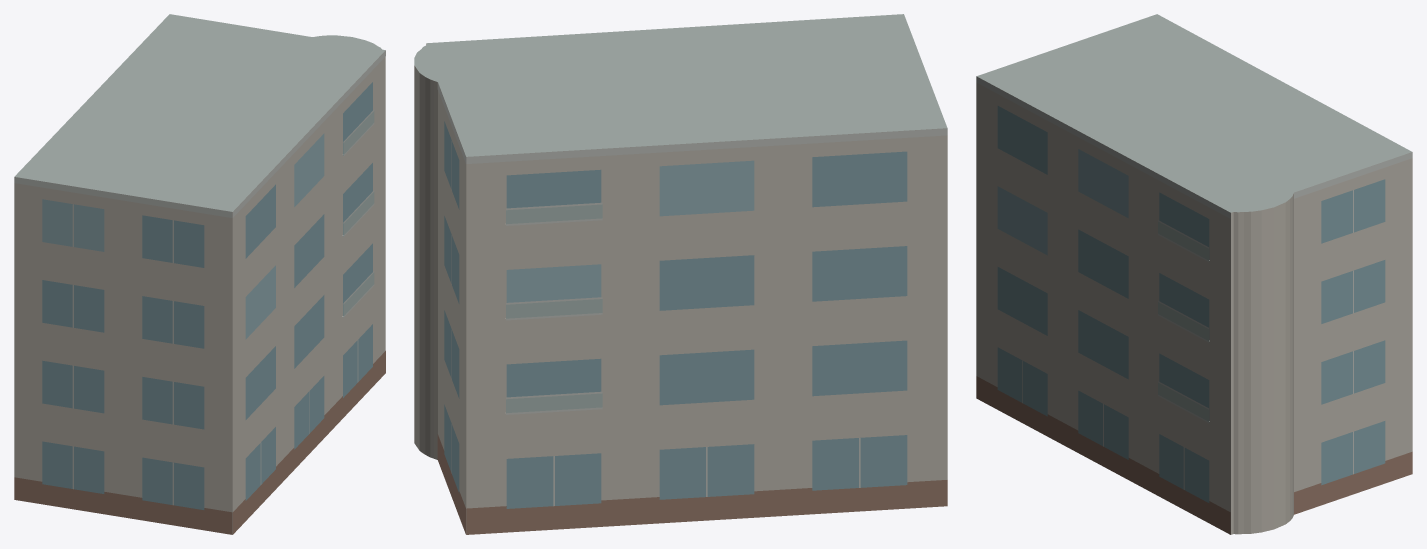
Rendered from survey-upis-32973012.glb.
3 renders of one model, left to right at view 1: azimuth 30°, elevation 25°; view 2: azimuth 150°, elevation 25°; view 3: azimuth 270°, elevation 25°, orthographic. The views are drawn at different scales.
Parts seen in each view (by area): view 1: survey-upis-32973012.tmp; view 2: survey-upis-32973012.tmp; view 3: survey-upis-32973012.tmp.
Boxes of the visible parts, x1,y1,x2,y2 form: survey-upis-32973012.tmp: (14,14,385,534); survey-upis-32973012.tmp: (414,14,947,534); survey-upis-32973012.tmp: (976,14,1412,534).
Size of the model in its own units: 16.81 by 12.7 by 15.59.
